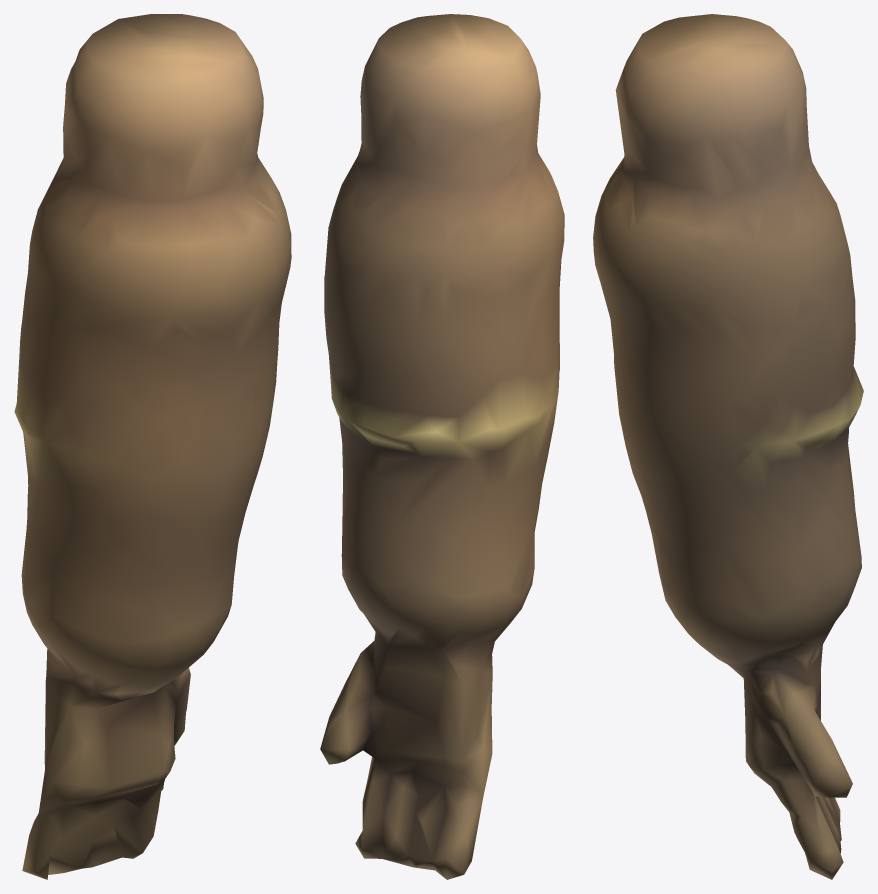
File: hero_farm_l.glb
The picture shows the model from 3 angles, left to right: view 1: azimuth 30°, elevation 25°; view 2: azimuth 150°, elevation 25°; view 3: azimuth 270°, elevation 25°; orthographic projection. The views are drawn at different scales.
Visible parts, largest first — view 1: geometry_0; view 2: geometry_0; view 3: geometry_0.
Part boxes in pixels (x1,y1,x2,y2): geometry_0: [14, 14, 291, 879]; geometry_0: [320, 14, 564, 879]; geometry_0: [593, 14, 863, 879].
Size of the model in its own units: 0.1062 by 0.383 by 0.1146.
